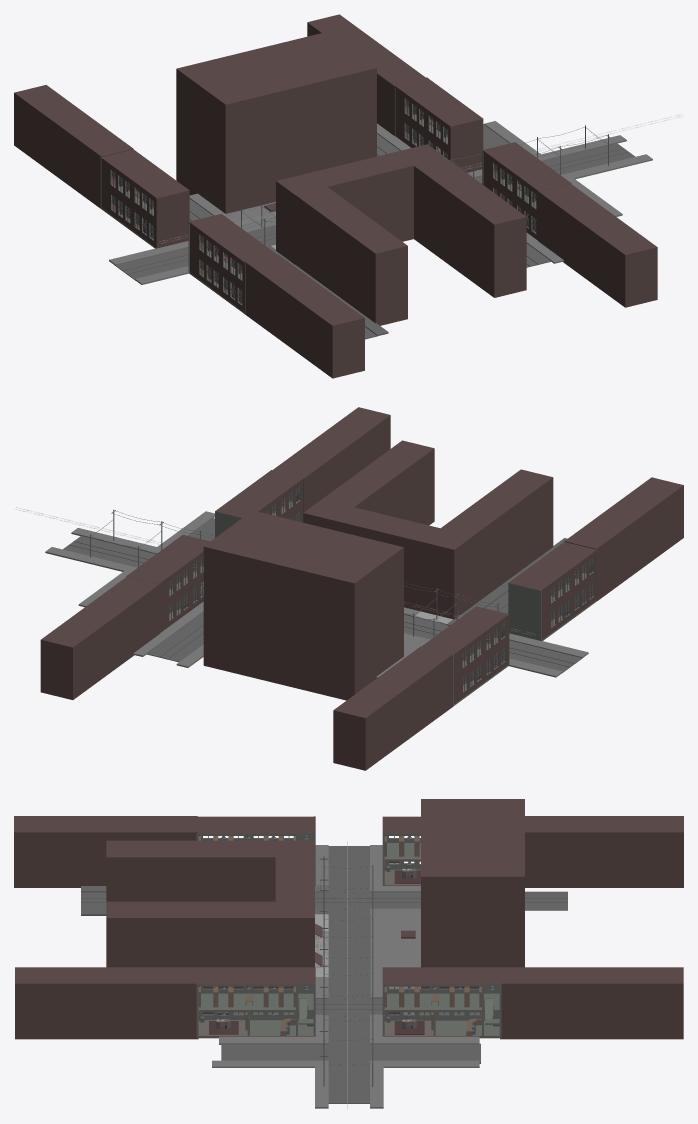
Rendered from Blockoutcoloredversion.fbx.
3 views of the same model, one above another, from view 1: azimuth 30°, elevation 25°; view 2: azimuth 150°, elevation 25°; view 3: azimuth 270°, elevation 25° (orthographic). The views are drawn at different scales.
Parts seen in each view (by area): view 1: pCube387, pCube390, pCube391, pCube396, pCube394, pCube388, pCube395, pCube517, pCube518, pCube519, pCube393, pCube147 (+10 smaller); view 2: pCube387, pCube395, pCube393, pCube388, pCube391, pCube396, pCube518, pCube390, pCube394, pCube517, pCube519, pCube147 (+11 smaller); view 3: pCube387, pCube393, pCube394, pCube390, pCube395, pCube391, pCube396, pCube519, pCube388, pCube384, pCube239, pCube518 (+23 smaller).
Part boxes in pixels (box(x1,y1,x2,y2)): pCube387: box(176, 31, 376, 213); pCube390: box(407, 153, 526, 297); pCube391: box(295, 187, 407, 325); pCube396: box(245, 254, 364, 378); pCube394: box(538, 184, 657, 307); pCube388: box(276, 144, 445, 264); pCube395: box(14, 85, 133, 207); pCube517: box(100, 149, 189, 248); pCube518: box(188, 214, 276, 314); pCube519: box(482, 142, 571, 240); pCube393: box(307, 14, 425, 135); pCube147: box(394, 77, 483, 127); pCube387: box(203, 510, 403, 700); pCube395: box(333, 646, 452, 770); pCube393: box(40, 576, 160, 699); pCube388: box(303, 499, 472, 619); pCube391: box(440, 469, 553, 605); pCube396: box(564, 477, 683, 600); pCube518: box(508, 542, 597, 640); pCube390: box(322, 440, 434, 525); pCube394: box(272, 407, 390, 512); pCube517: box(421, 606, 509, 706); pCube519: box(215, 470, 303, 537); pCube147: box(127, 534, 209, 583); pCube387: box(421, 799, 524, 988); pCube393: box(500, 967, 683, 1039); pCube394: box(15, 967, 198, 1039); pCube390: box(106, 901, 289, 988); pCube395: box(525, 816, 683, 887); pCube391: box(106, 840, 289, 901); pCube396: box(14, 816, 197, 887); pCube519: box(196, 967, 315, 1038); pCube388: box(275, 840, 314, 988); pCube384: box(328, 908, 371, 999); pCube239: box(328, 1015, 371, 1103); pCube518: box(196, 816, 315, 885).
Size of the model in its own units: 116 by 23.66 by 115.
